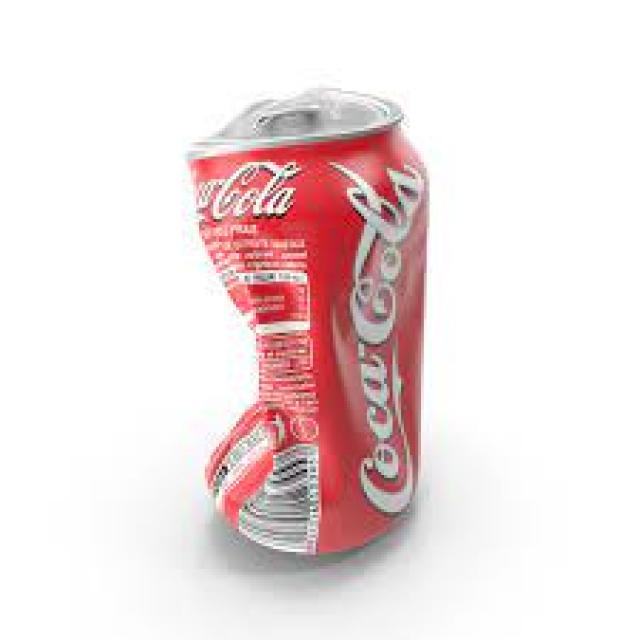aluminum_can: (191, 88, 430, 556)
